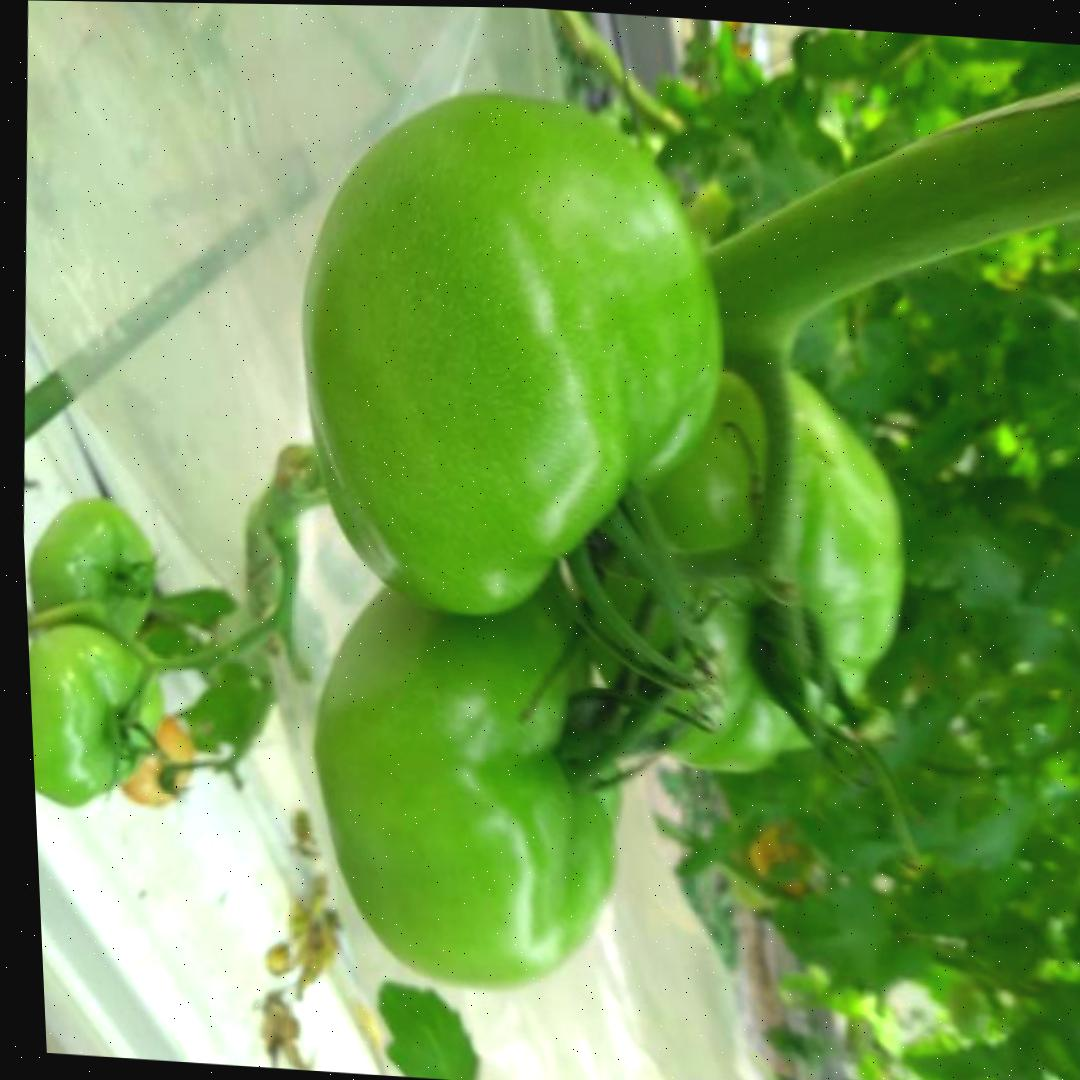mentah: (273, 76, 750, 635), (291, 538, 648, 1001), (27, 615, 173, 812)
